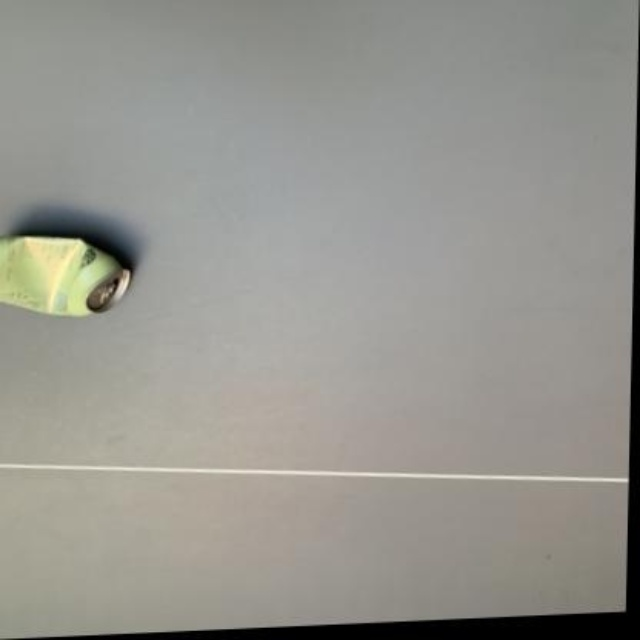trash: (0, 235, 129, 315)
